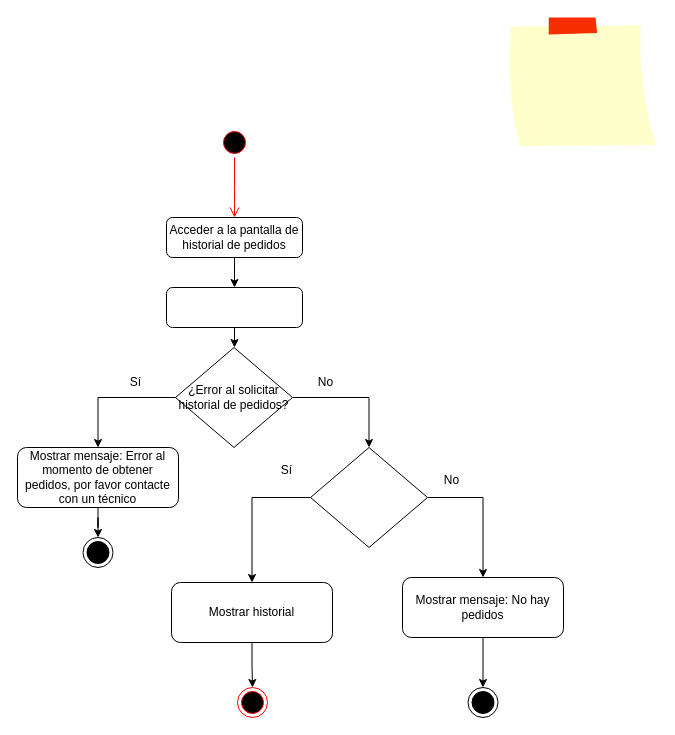
The diagram is 675 pixels wide and 735 high, and some of its shapes have lost their labels. Here are the shapes that lost their labels. From the top down, the box of each, then its label:
(506, 16, 658, 148): En este punto se asume que el usuario ya está autencicado
(166, 286, 302, 328): Solicitar historial de pedidos
(310, 446, 428, 548): ¿Hay pedidos?
